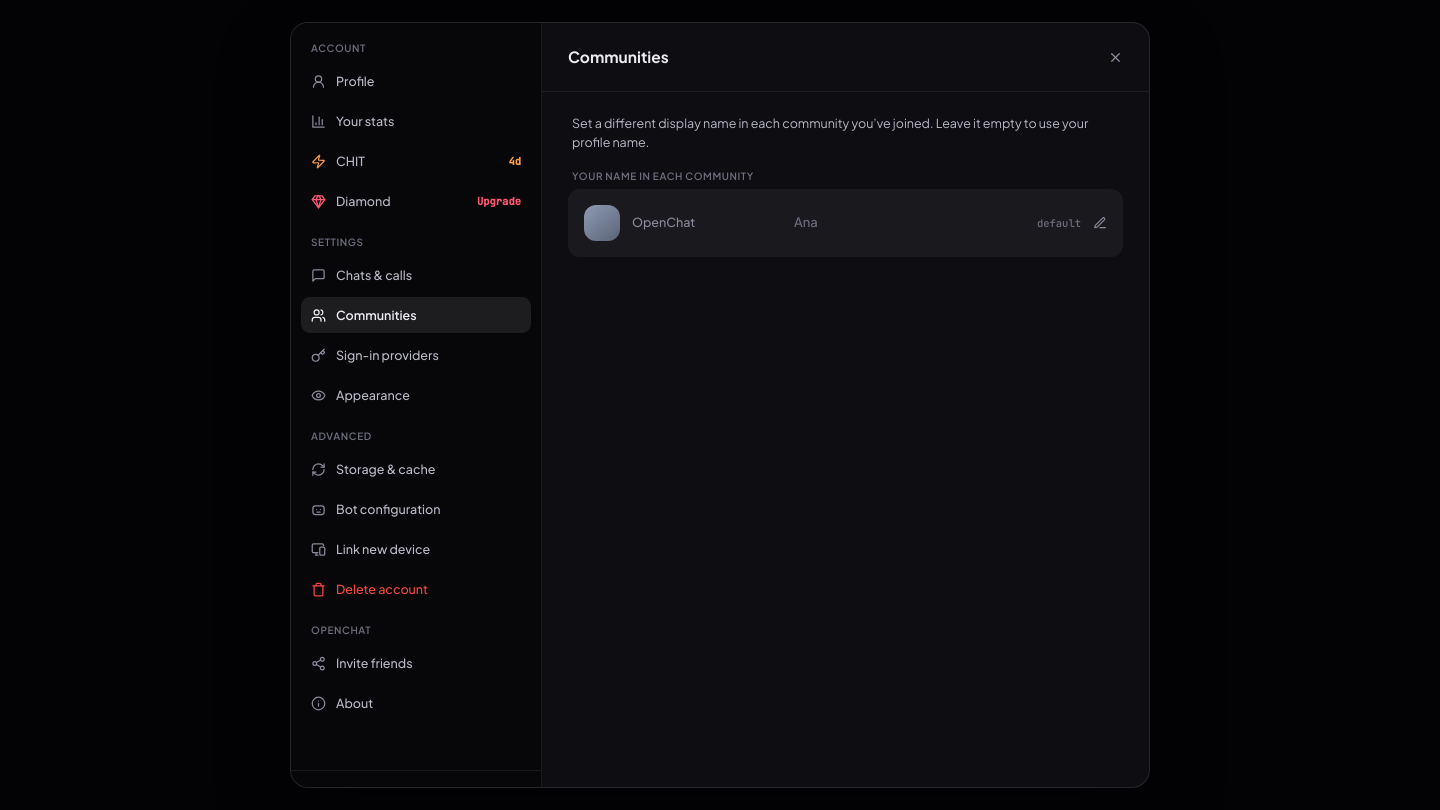
Scenario: ProfileDialog › the latest community name wins over an older rejection
Click the button with class "community": (602, 223) [584,205,1107,241]
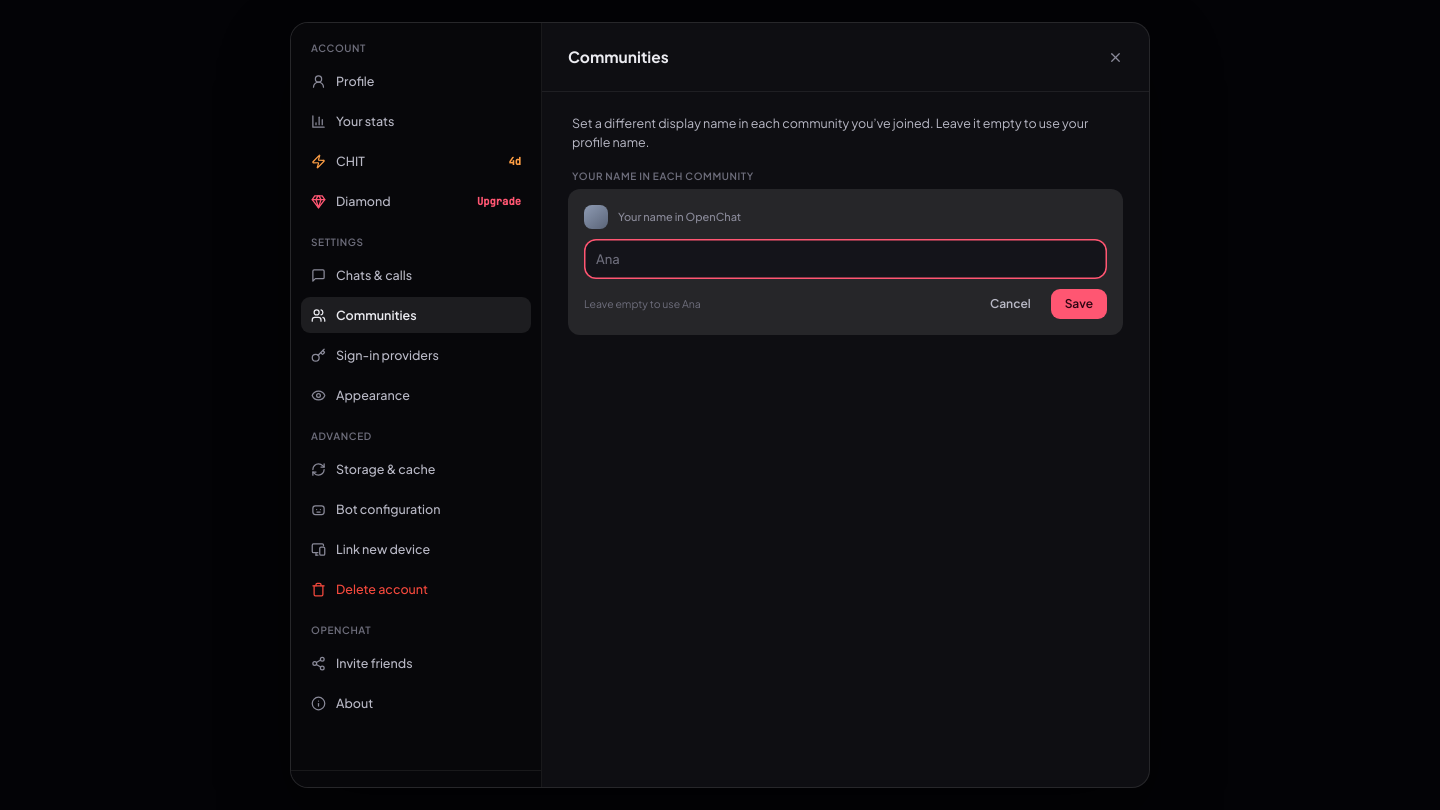
In the field with placeholder "Ana": (846, 259) [596,239,1095,279], type "First"
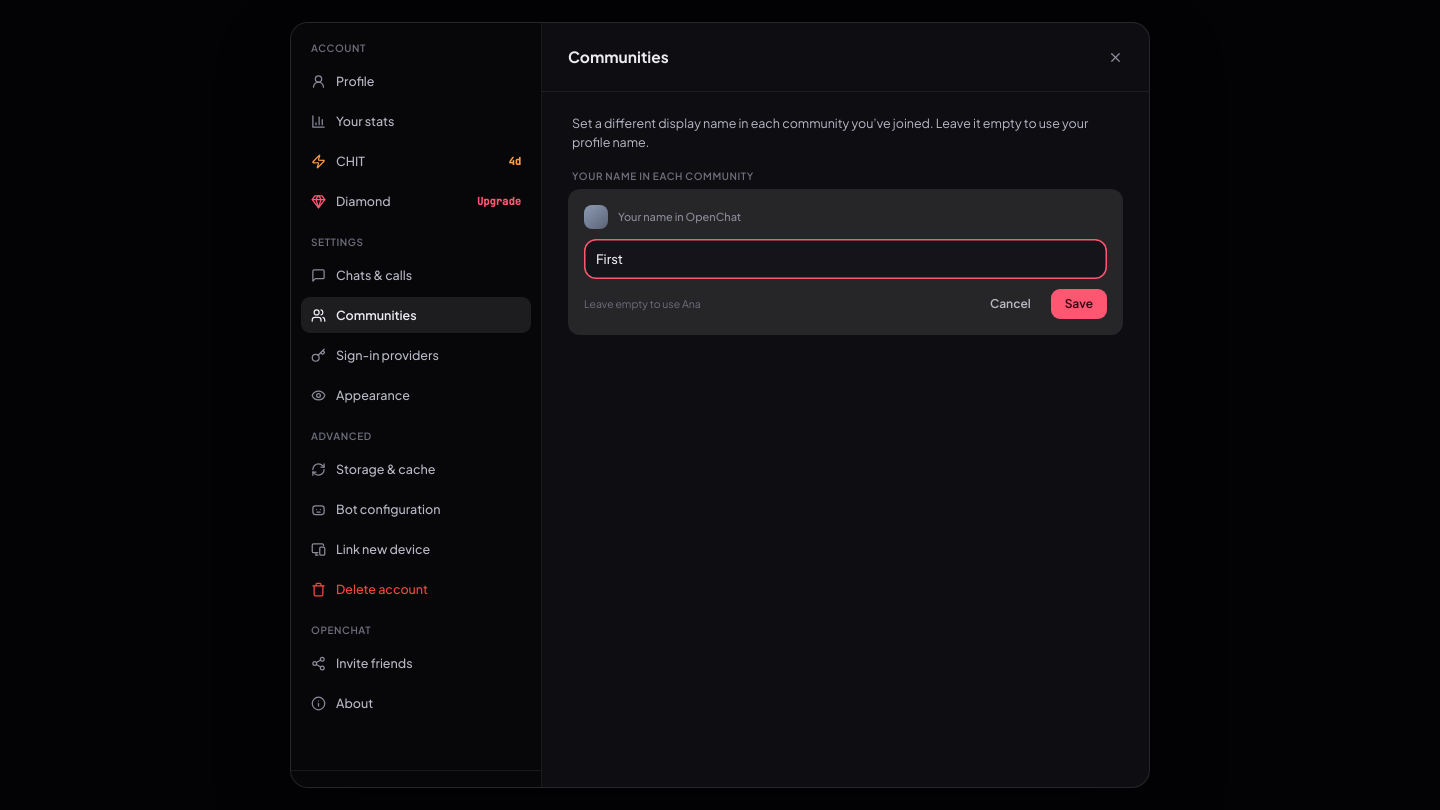
Click the button with class "save": (1079, 304) [1051,289,1107,319]
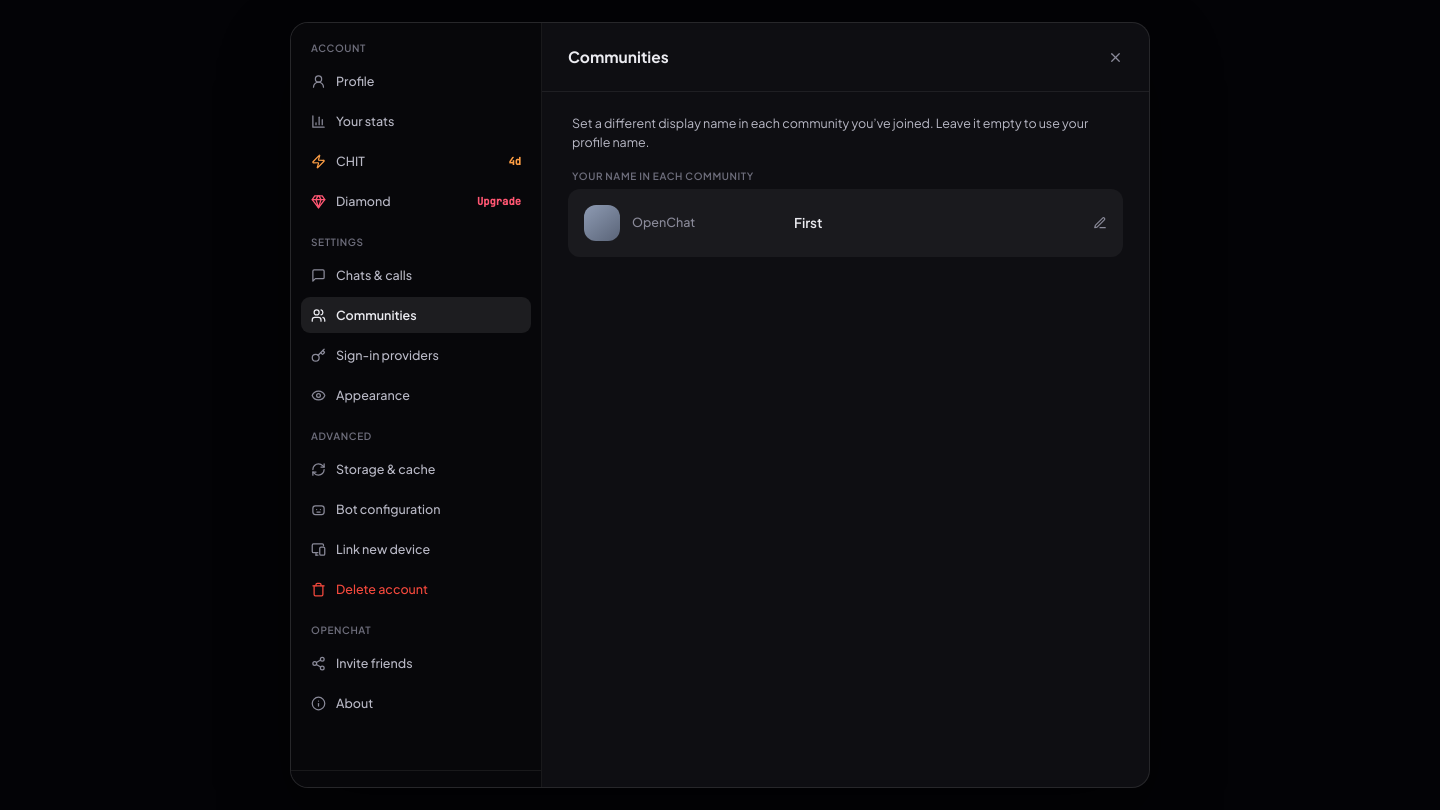
Click the button with class "community": (602, 223) [584,205,1107,241]
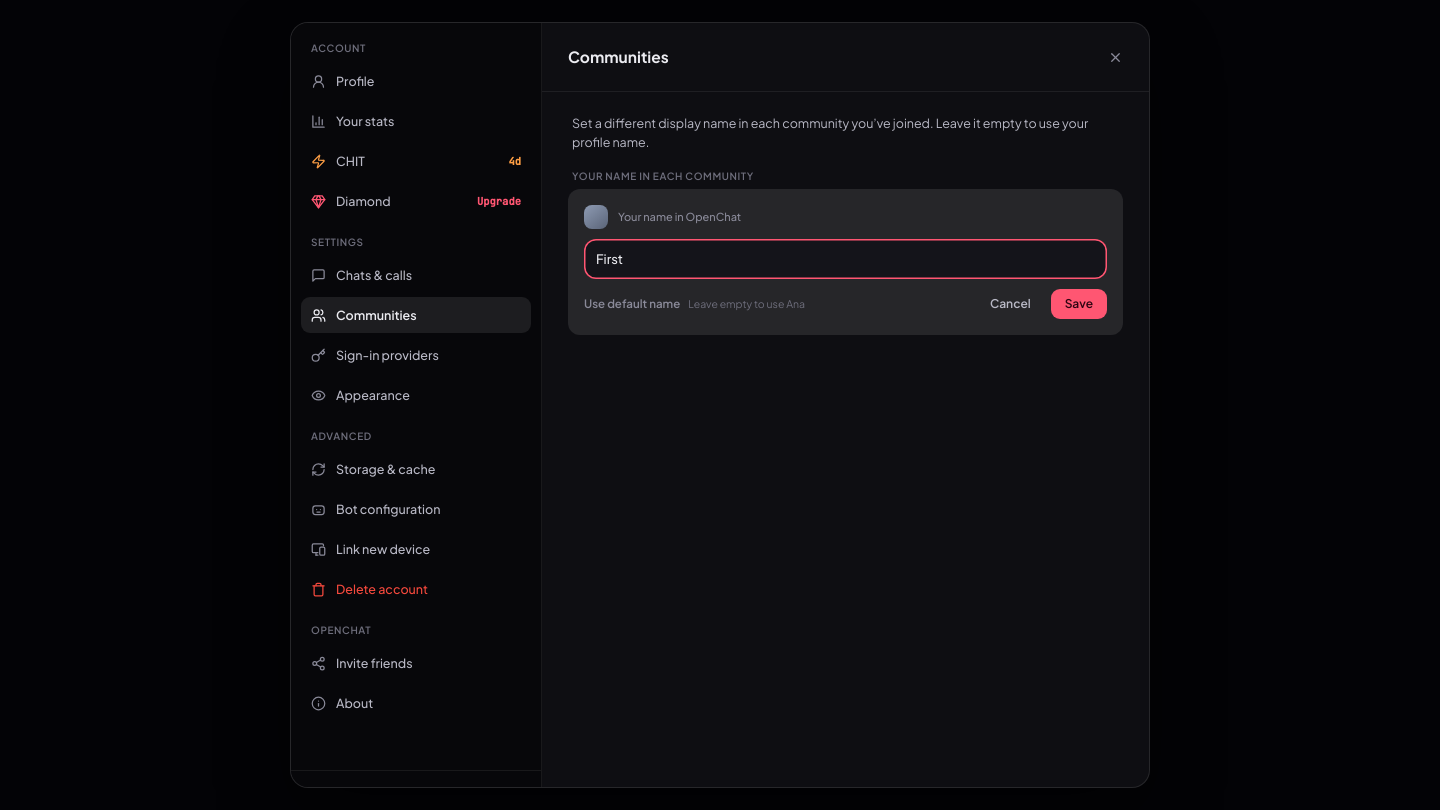
Replace the text in the field with "Second": (846, 259) [596,239,1095,279]
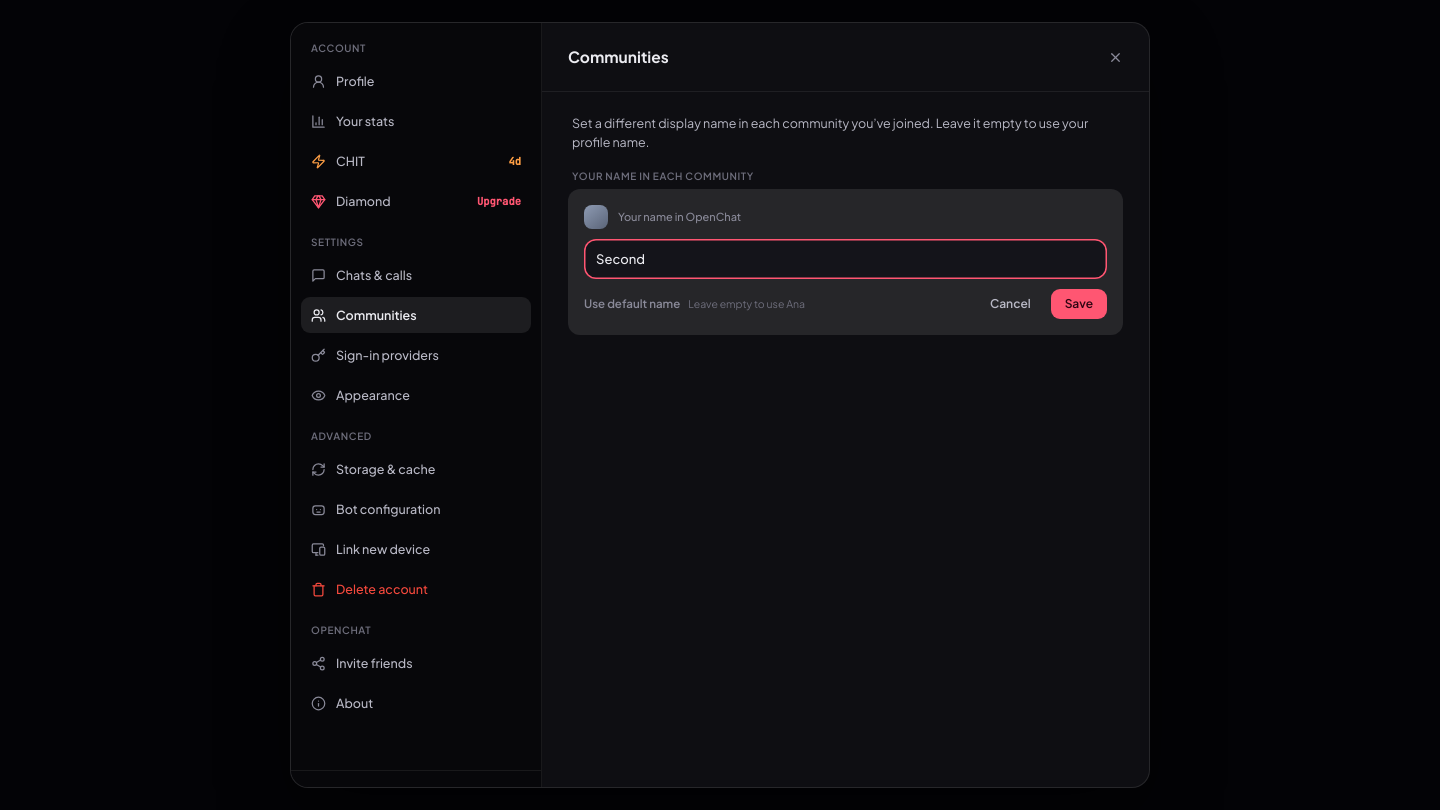
Click the button with class "save": (1079, 304) [1051,289,1107,319]
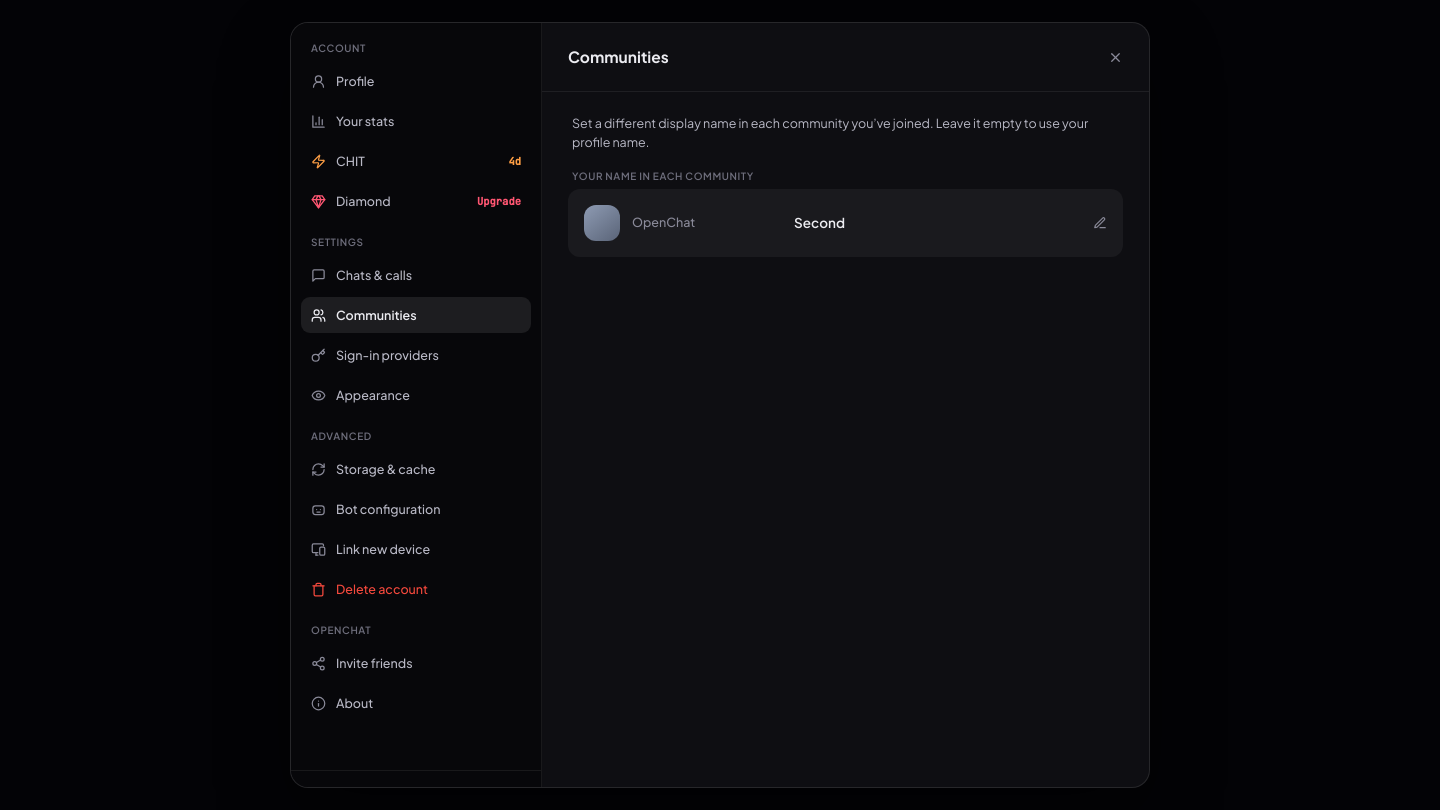
Now the text with class "community-shown" reads "Second", box [794,214,845,231]
